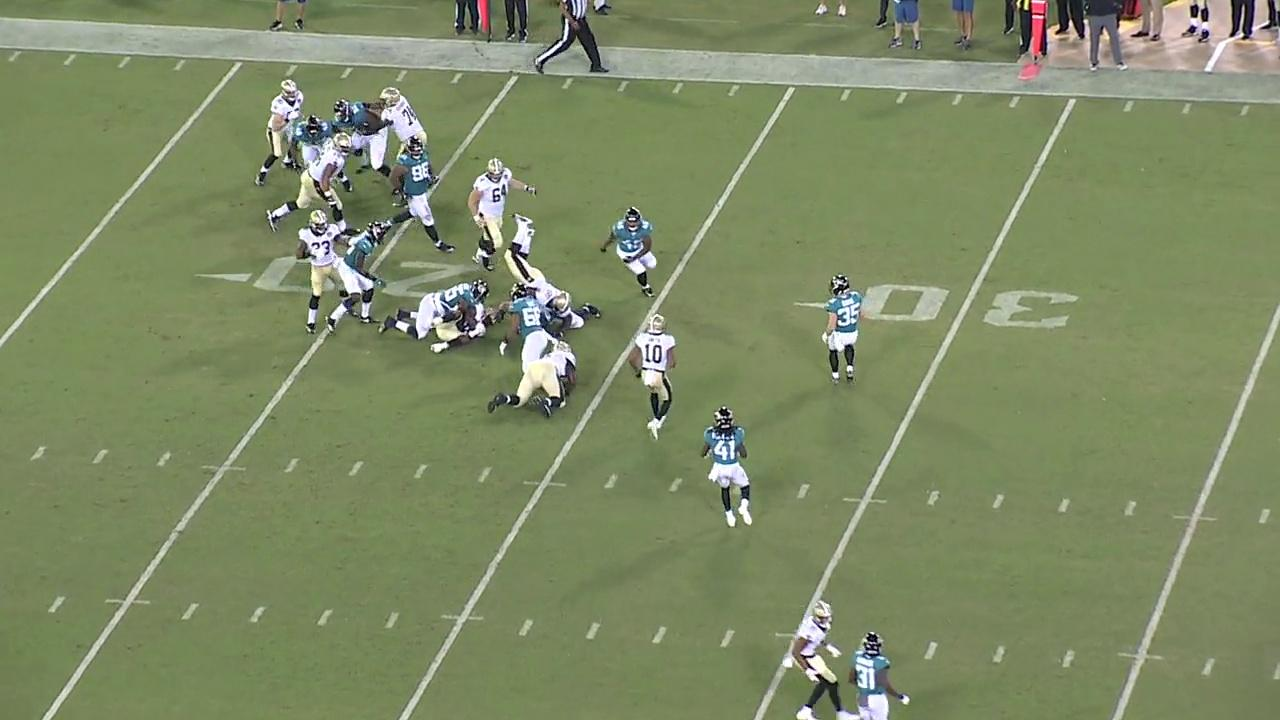five_hash: (1116, 648, 1167, 663), (839, 492, 892, 506), (199, 461, 251, 475), (1169, 511, 1219, 525), (522, 477, 568, 491), (441, 610, 486, 624), (104, 596, 155, 607)
hash: (310, 605, 342, 633), (172, 598, 203, 626), (512, 613, 540, 641), (243, 601, 271, 629), (44, 590, 72, 618), (1117, 496, 1148, 521), (647, 622, 675, 649), (26, 441, 55, 467), (1057, 646, 1086, 672), (378, 606, 407, 632), (600, 469, 628, 495), (791, 476, 817, 504), (579, 619, 607, 645), (468, 462, 497, 487), (985, 487, 1011, 513), (918, 637, 944, 663), (408, 458, 434, 483), (715, 626, 740, 652), (1053, 491, 1077, 518), (149, 448, 178, 470), (987, 642, 1012, 667), (88, 445, 114, 469), (344, 455, 368, 481), (1196, 654, 1220, 679), (923, 485, 947, 509), (1249, 505, 1276, 526), (278, 454, 302, 475), (664, 476, 685, 496)
number: (857, 276, 1083, 337)
